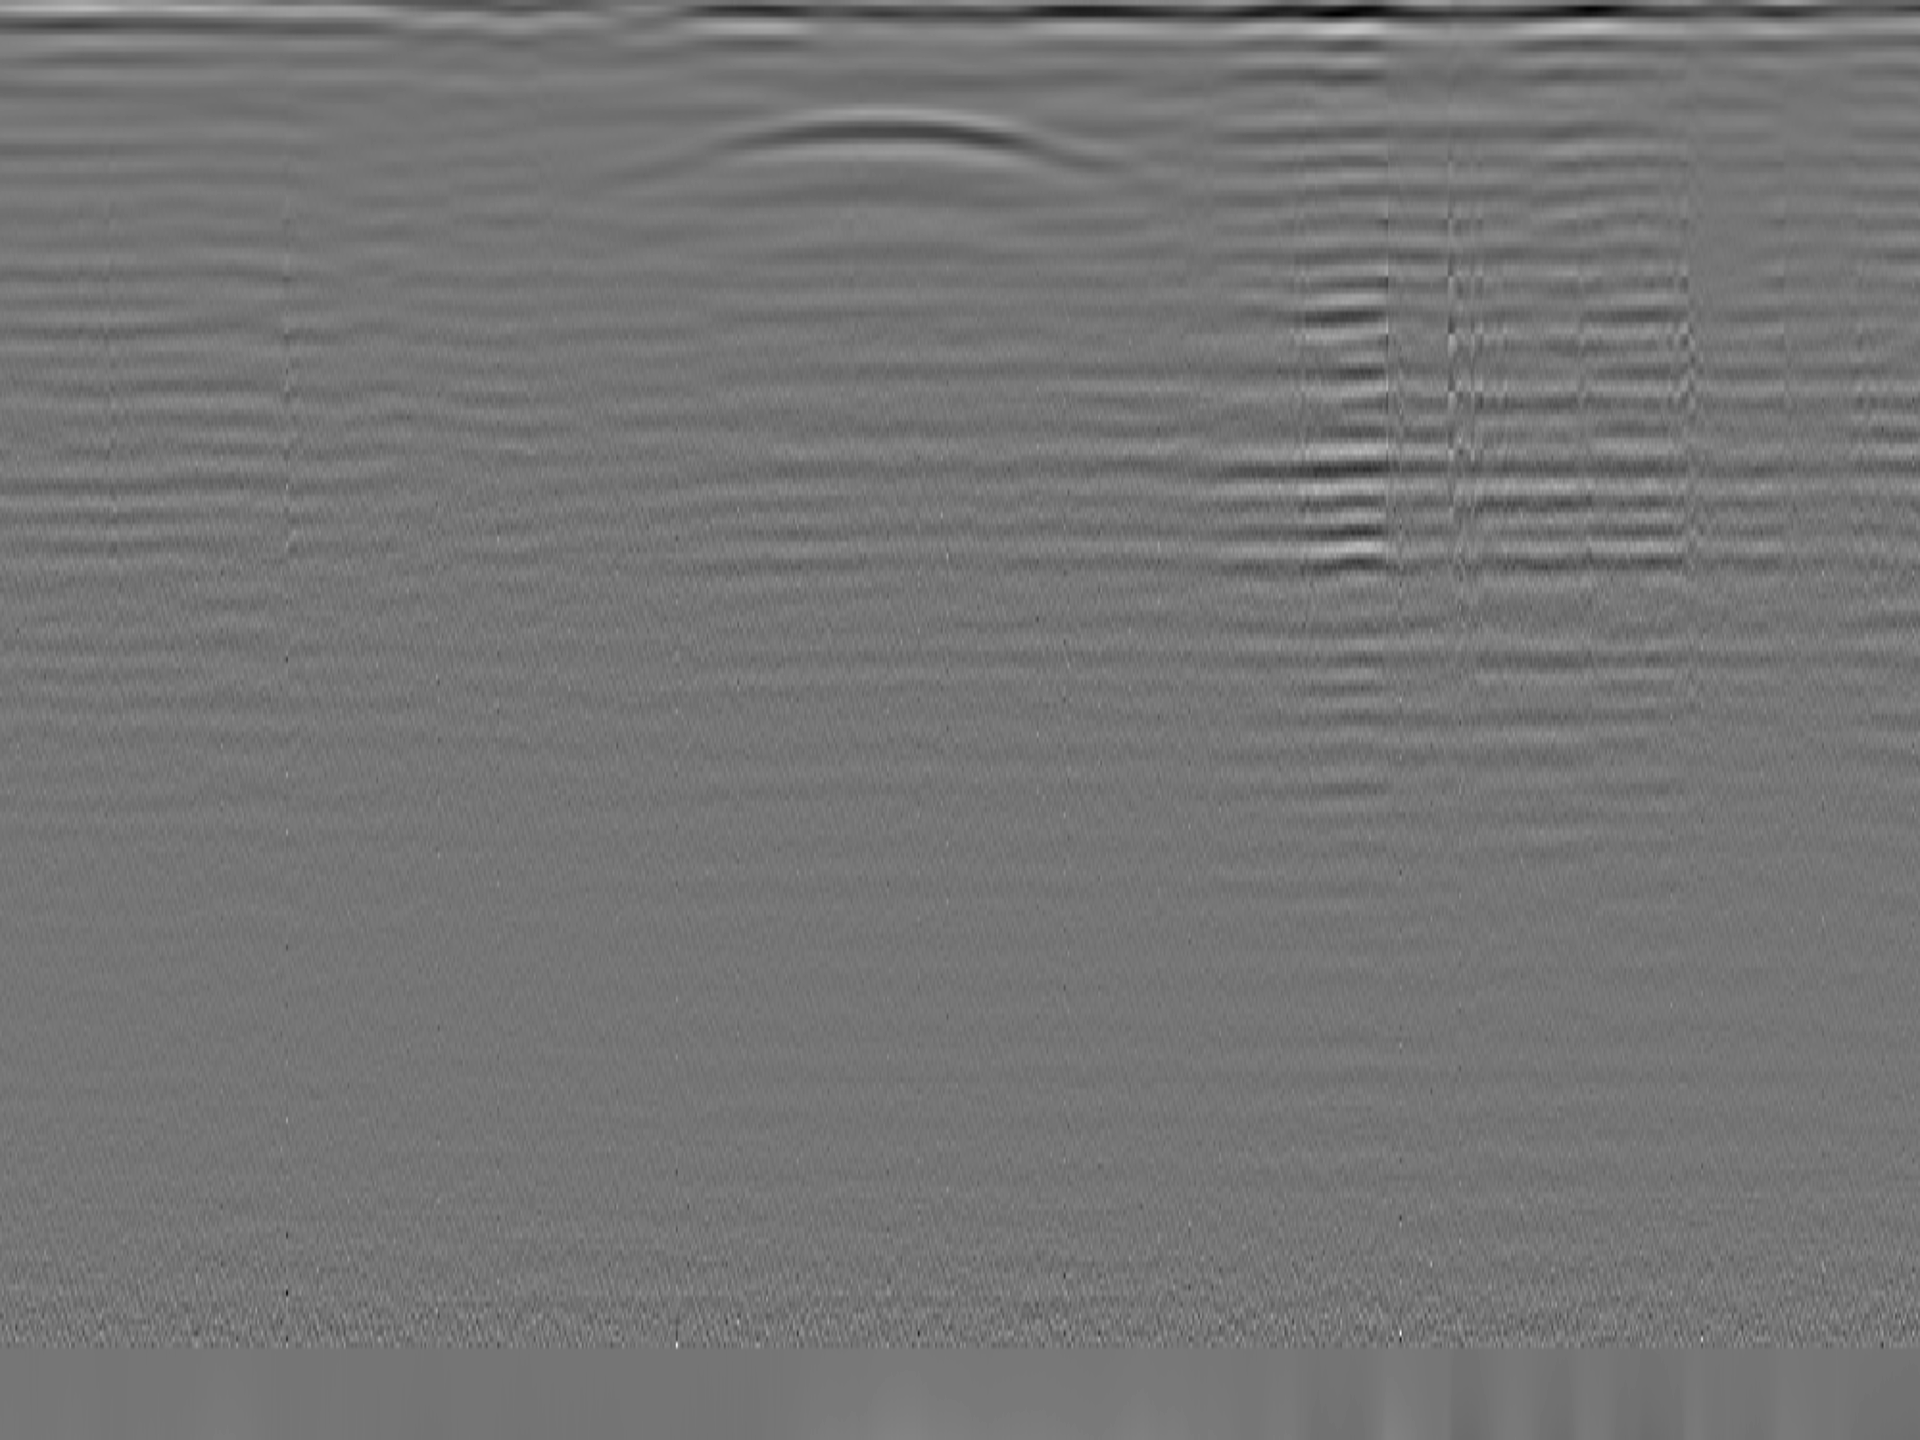Tunnel: (581, 106, 1175, 194)
